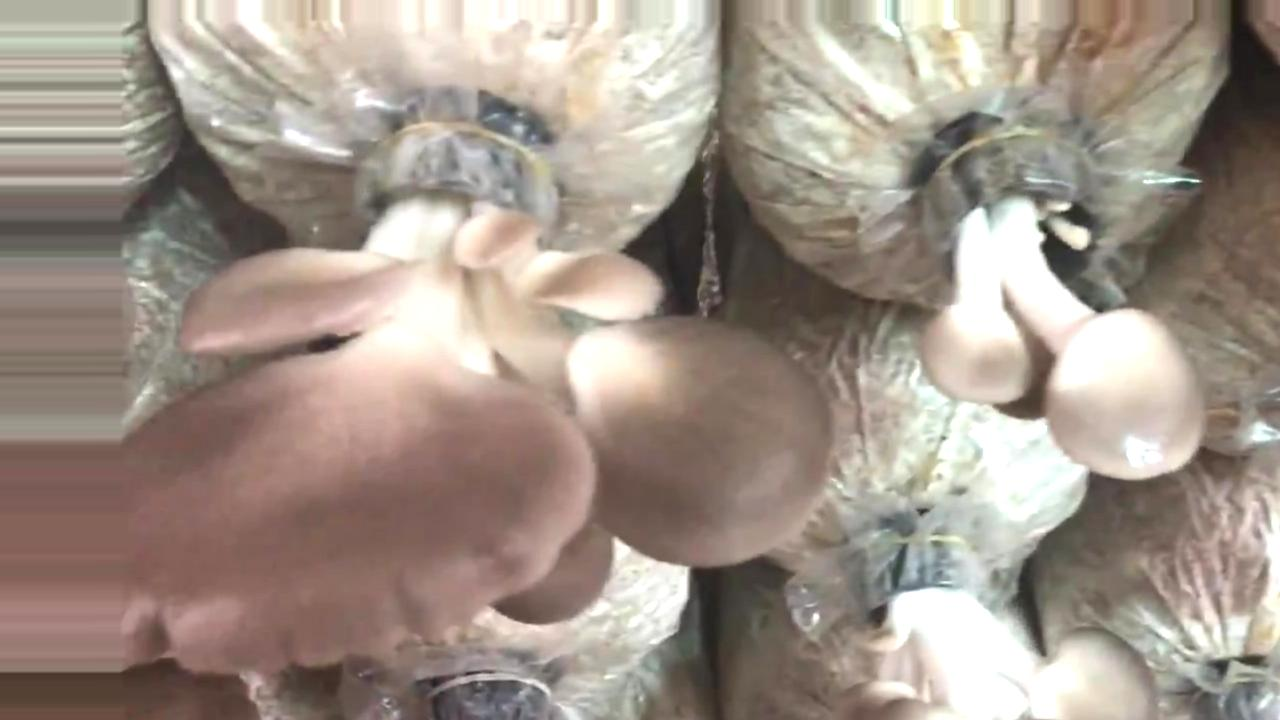nam: (9, 103, 836, 675), (914, 125, 1205, 484), (833, 512, 1159, 720)
